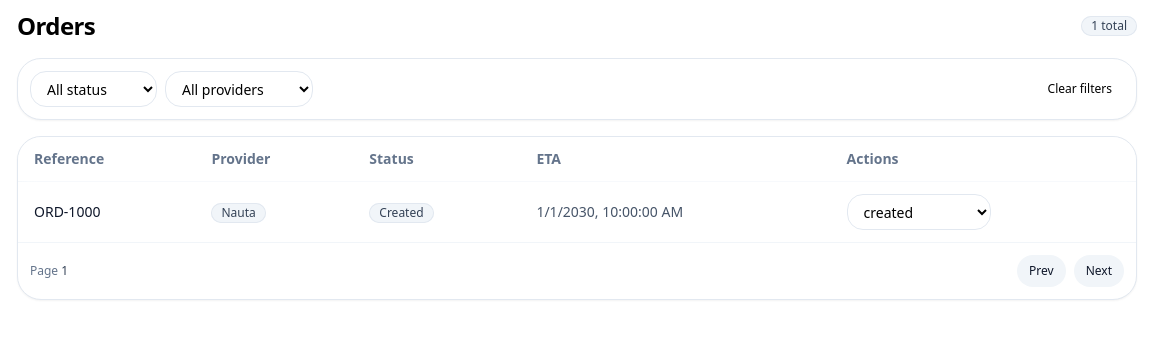
Test case: OrdersTable - mutation error handling › shows error alert and rolls back status when patch fails
Check: the text "ORD-1000" is shown, box [18, 182, 195, 242]
Select "in transit" in the dropdown named "Change status for ORD-1000" at (918, 212), box [846, 194, 990, 230]
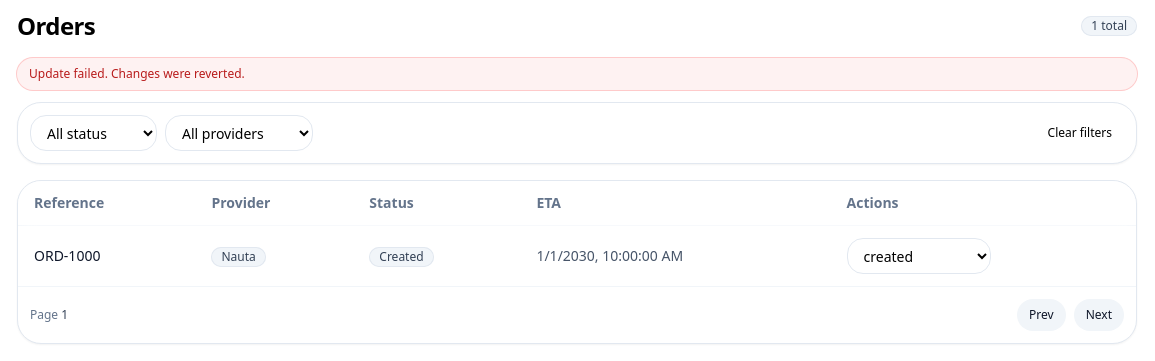
Check: the message shows "Update failed", box [29, 65, 245, 82]
